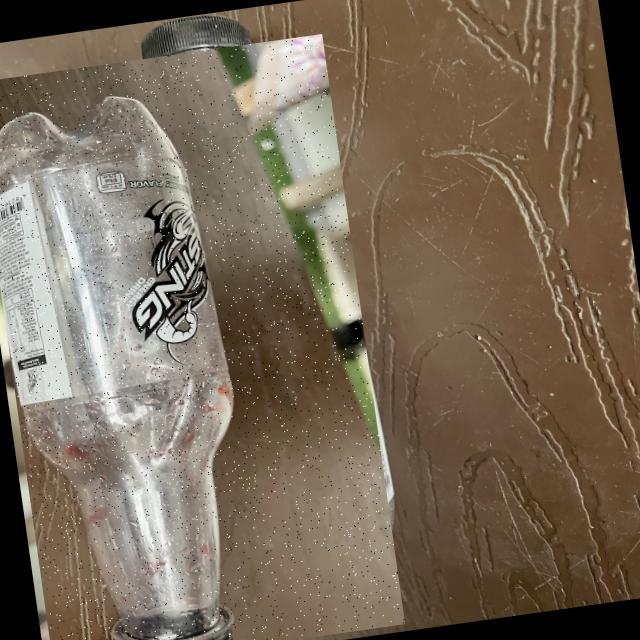REJECT: (0, 33, 405, 640)
